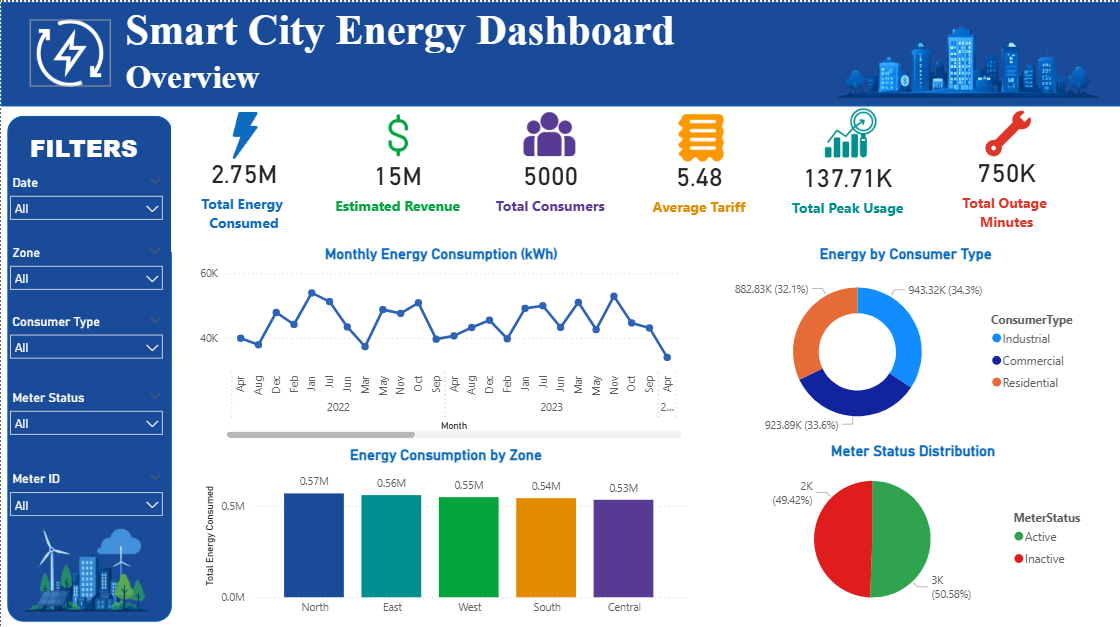

What the dashboard file says about the page in this screenshot:
{"tool":"powerbi","page":{"name":"Overview","canvas":[1280,720],"ordinal":0},"visuals":[{"type":"shape","box":[0,0,1279.7,119.2],"z":0},{"type":"shape","box":[6.7,130,188.3,578.3],"z":1000},{"type":"card","title":"Total Energy Consumed","fields":{"Values":["Measure.Total Energy Consumed"]},"box":[194.3,125.7,167.1,160],"z":2000},{"type":"card","title":"Total Energy Consumed","fields":{"Values":["Measure.Estimated Revenue"]},"box":[371.4,127.1,164.3,161.4],"z":3000},{"type":"card","title":"Total Energy Consumed","fields":{"Values":["Measure.Total Consumers"]},"box":[547.1,127.1,161.4,161.4],"z":4000},{"type":"card","title":"Total Energy Consumed","fields":{"Values":["Measure.Average Tariff"]},"box":[718.6,128.6,158.6,161.4],"z":5000},{"type":"card","title":"Total Energy Consumed","fields":{"Values":["Measure.Total Peak Usage"]},"box":[888.6,130,158.6,161.4],"z":6000},{"type":"card","title":"Total Energy Consumed","fields":{"Values":["Measure.Total Outage Minutes"]},"box":[1070,125.7,158.6,158.6],"z":7000},{"type":"lineChart","title":"Monthly Energy Consumption (kWh)","fields":{"Category":["Smart City Energy.Date Hierarchy.Year","Smart City Energy.Date Hierarchy.Month"],"Y":["Measure.Total Energy Consumed"]},"box":[223.3,276.7,560,226.7],"z":8000},{"type":"donutChart","title":"Energy by Consumer Type","fields":{"Category":["Smart City Energy.ConsumerType"],"Y":["Measure.Total Energy Consumed"]},"box":[821.7,276.7,425,226.7],"z":9000},{"type":"clusteredColumnChart","title":"Energy Consumption by Zone","fields":{"Category":["Smart City Energy.Zone"],"Y":["Measure.Total Energy Consumed"]},"box":[228.3,506.7,560,203.3],"z":10000},{"type":"pieChart","title":"Meter Status Distribution","fields":{"Category":["Smart City Energy.MeterStatus"],"Y":["Measure.Total Consumers"]},"box":[830,503.3,425,203.3],"z":11000},{"type":"textbox","box":[137,0,740.4,81.9],"z":12000},{"type":"textbox","box":[137,58.7,558.9,60.5],"z":13000},{"type":"textbox","box":[12.5,142.4,163.7,62.3],"z":14000},{"type":"slicer","fields":{"Values":["Smart City Energy.Date Hierarchy.Date","Smart City Energy.Date Hierarchy.Year","Smart City Energy.Date Hierarchy.Month","Smart City Energy.Date Hierarchy.Quarter"]},"box":[0,193.3,195,88.3],"z":15000},{"type":"slicer","fields":{"Values":["Smart City Energy.Zone"]},"box":[0,273.3,195,86.7],"z":16000},{"type":"slicer","fields":{"Values":["Smart City Energy.ConsumerType"]},"box":[0,351.7,195,86.7],"z":17000},{"type":"slicer","fields":{"Values":["Smart City Energy.MeterStatus"]},"box":[0,438.3,195,86.7],"z":18000},{"type":"slicer","fields":{"Values":["Smart City Energy.MeterID"]},"box":[0,531.7,195,88.3],"z":19000},{"type":"image","box":[945,0,320,141.7],"z":20000},{"type":"image","box":[4.8,575.3,183.4,145],"z":21000},{"type":"image","box":[33.2,20.2,92.3,76.5],"z":21001},{"type":"image","box":[251,125.5,54.8,53.4],"z":21002},{"type":"image","box":[417,122.6,73.6,59.2],"z":21003},{"type":"image","box":[590.1,121.2,73.6,59.2],"z":21004},{"type":"image","box":[760.3,115.4,76.5,73.6],"z":21005},{"type":"image","box":[934.9,119.7,73.6,59.2],"z":21006},{"type":"image","box":[1123.9,124.1,53.4,51.9],"z":21007}]}

Visuals, with their boxes in screenshot pixels (x1, y1, x2, y2), scaled from the page's 1280x720 canvas onto the 1120x627 screenshot:
shape: detection(0, 0, 1119, 104)
shape: detection(6, 113, 171, 617)
"Total Energy Consumed" card: detection(170, 109, 316, 249)
"Total Energy Consumed" card: detection(325, 111, 469, 251)
"Total Energy Consumed" card: detection(479, 111, 620, 251)
"Total Energy Consumed" card: detection(629, 112, 768, 253)
"Total Energy Consumed" card: detection(778, 113, 916, 254)
"Total Energy Consumed" card: detection(936, 109, 1075, 248)
"Monthly Energy Consumption (kWh)" lineChart: detection(195, 241, 685, 438)
"Energy by Consumer Type" donutChart: detection(719, 241, 1091, 438)
"Energy Consumption by Zone" clusteredColumnChart: detection(200, 441, 690, 618)
"Meter Status Distribution" pieChart: detection(726, 438, 1098, 615)
textbox: detection(120, 0, 768, 71)
textbox: detection(120, 51, 609, 104)
textbox: detection(11, 124, 154, 178)
slicer - Smart City Energy.Date Hierarchy.Date x Smart City Energy.Date Hierarchy.Year: detection(0, 168, 171, 245)
slicer - Smart City Energy.Zone: detection(0, 238, 171, 314)
slicer - Smart City Energy.ConsumerType: detection(0, 306, 171, 382)
slicer - Smart City Energy.MeterStatus: detection(0, 382, 171, 457)
slicer - Smart City Energy.MeterID: detection(0, 463, 171, 540)
image: detection(827, 0, 1107, 123)
image: detection(4, 501, 165, 626)
image: detection(29, 18, 110, 84)
image: detection(220, 109, 268, 156)
image: detection(365, 107, 429, 158)
image: detection(516, 106, 581, 157)
image: detection(665, 100, 732, 165)
image: detection(818, 104, 882, 156)
image: detection(983, 108, 1030, 153)
